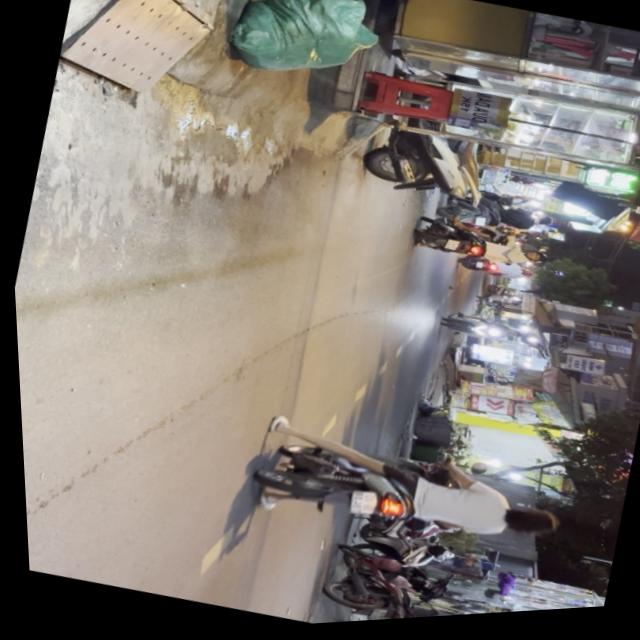licenseplate: (235, 409, 566, 581)
motorcyclist: (495, 508, 553, 550)
nohelmet: (342, 493, 372, 523)
